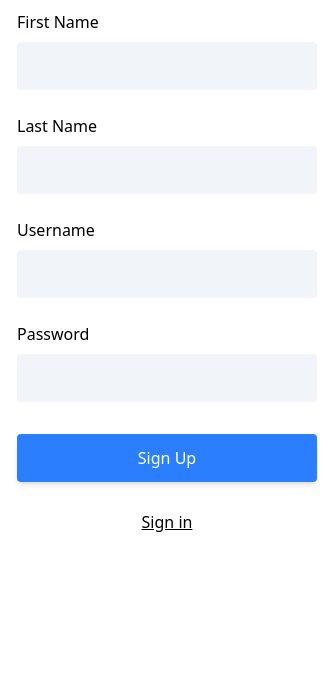
Scenario: SignUp › validation › on submit › validates missing first name
The width and height of the screenshot is (335, 677).
Click the button "Sign Up".
click(167, 458)  # box [17,434,317,482]
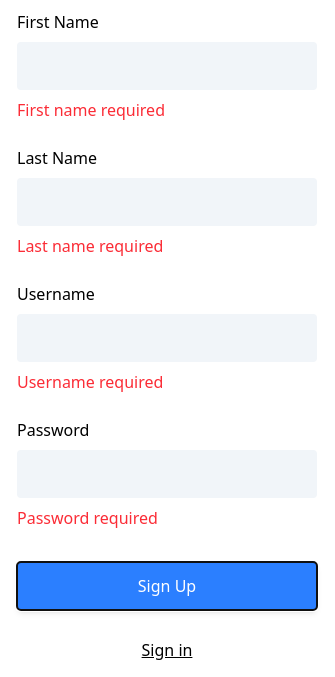
Now the text "First name required" is shown, box [17,99,165,121]
